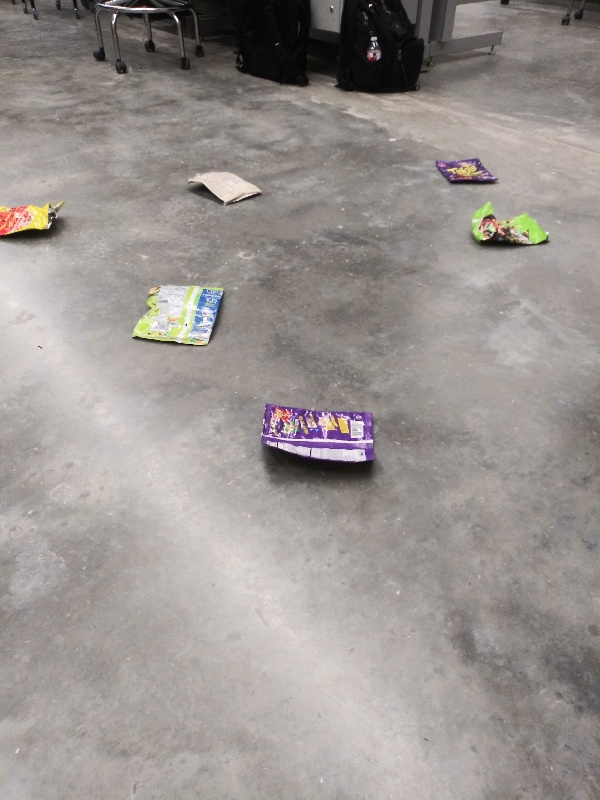bag: (257, 398, 384, 471), (127, 282, 235, 349), (467, 198, 556, 251), (179, 167, 271, 208), (1, 196, 72, 244), (431, 155, 505, 188)
bottle: (364, 31, 382, 63)
